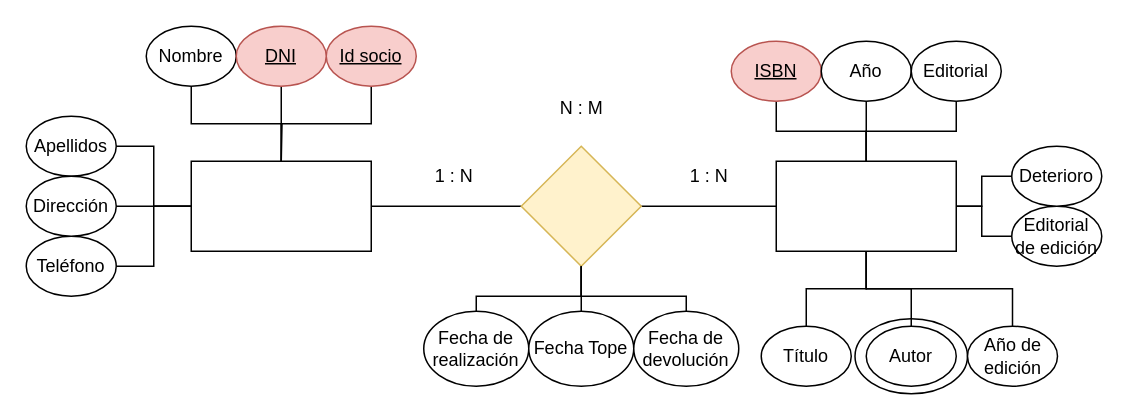
The diagram is 1128 pixels wide and 420 high, and some of its shapes have lost their labels. Each missing label, with the box of its shape:
LIBRO: (775, 160, 956, 251)
SOCIO: (190, 160, 371, 251)
TOMA PRESTADO: (520, 145, 641, 266)
